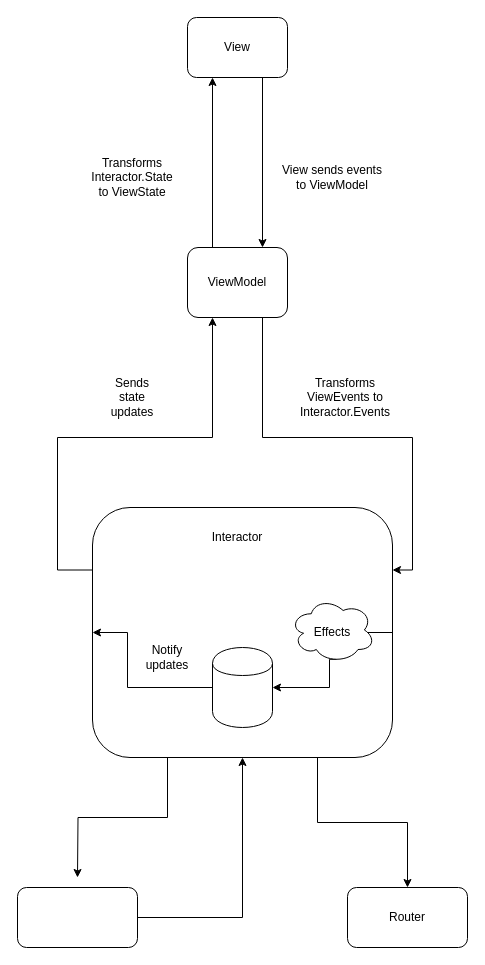
This 485x965 diagram has some shape labels left out. Each missing label, with the centre of its shape:
Repository: point (77, 917)
State: point (242, 687)
